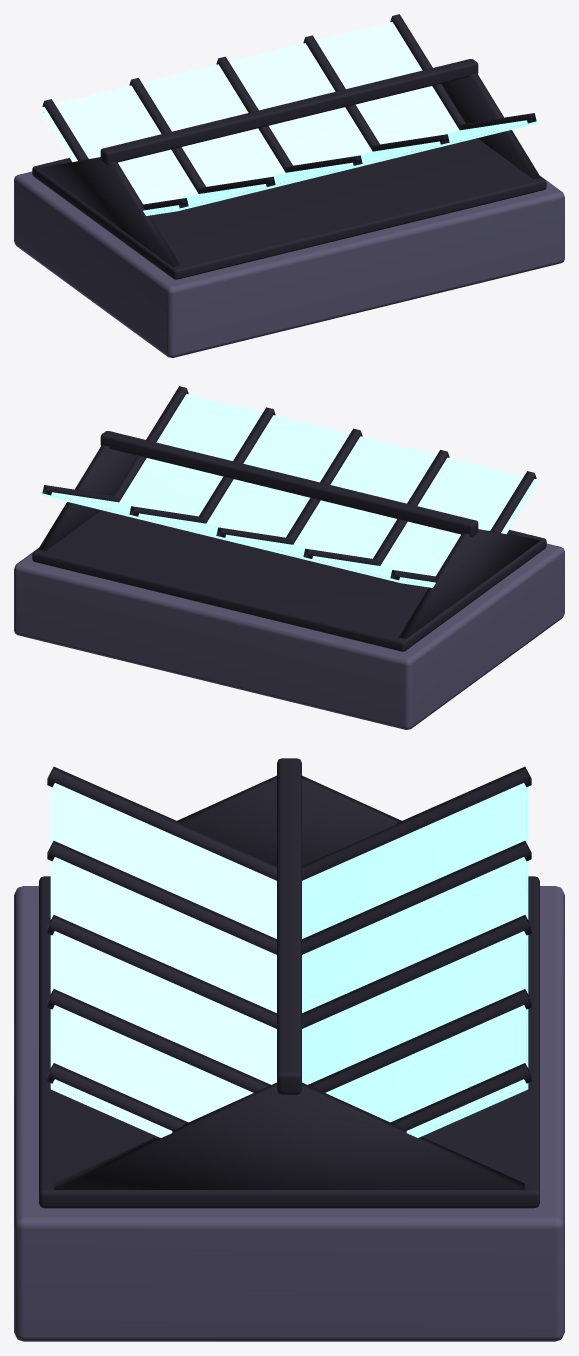
The model's file is neon_skylight.glb.
3 views of the same model, one above another, from view 1: azimuth 30°, elevation 25°; view 2: azimuth 150°, elevation 25°; view 3: azimuth 270°, elevation 25° (orthographic). The views are drawn at different scales.
Visible parts, largest first — view 1: Skylight; view 2: Skylight; view 3: Skylight.
Boxes of the visible parts, x1=… form: Skylight: x1=14, y1=14, x2=564, y2=357; Skylight: x1=14, y1=386, x2=564, y2=729; Skylight: x1=14, y1=758, x2=564, y2=1341.
Bounding box in the file's own units: 3.2 × 1.15 × 2.2.
